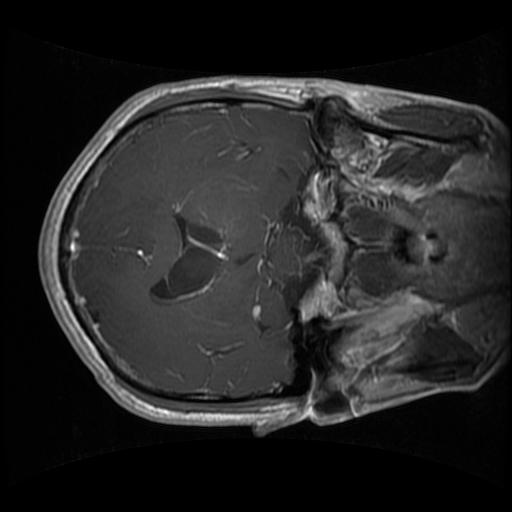glioma: (148, 211, 225, 306)
